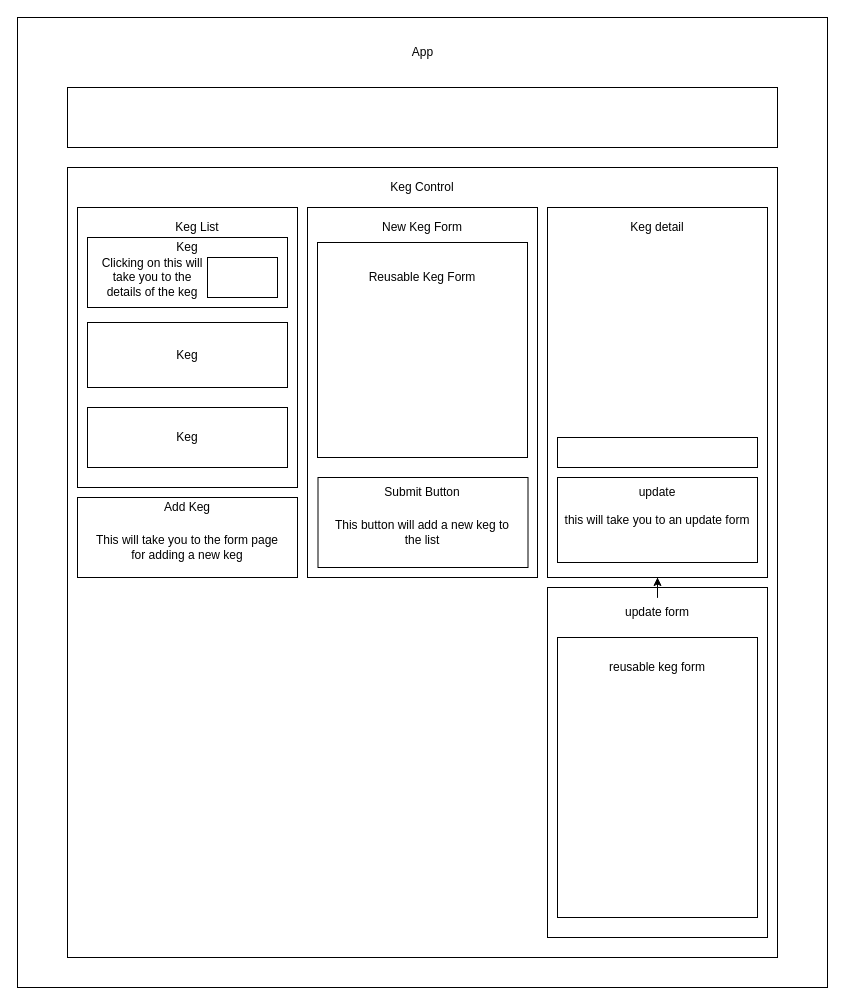
This 845x1005 diagram has some shape labels left out. Here are the shapes that lost their labels. From the top down, the centre of each, then its label:
(422,117): Header
(242,277): sell pint button
(657,452): Delete
